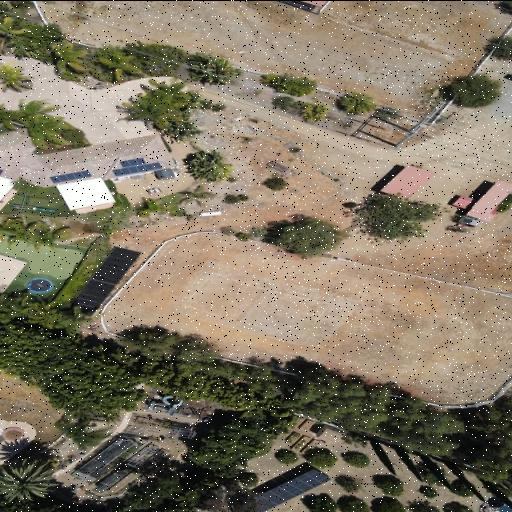solar-panel: (67, 245, 142, 316), (243, 469, 331, 512), (112, 157, 163, 176), (49, 169, 92, 183), (0, 168, 3, 175)
